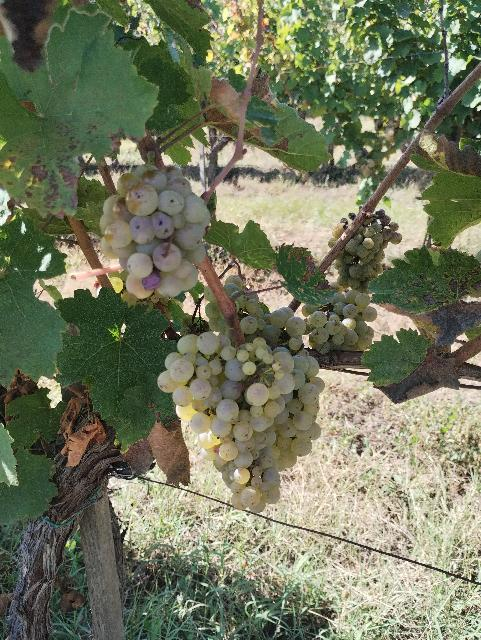grapes: (159, 331, 325, 511), (100, 164, 210, 299), (224, 275, 309, 354), (335, 209, 402, 292), (302, 291, 378, 354), (204, 286, 229, 336), (329, 212, 356, 248)
